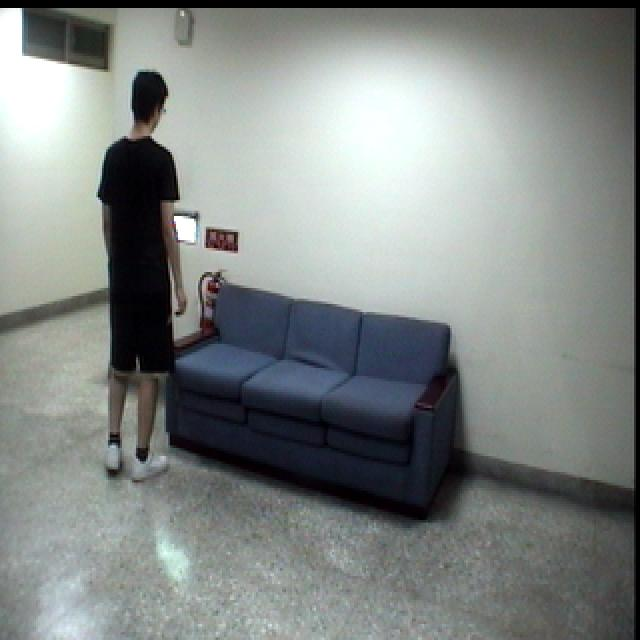stand: (90, 67, 195, 488)
